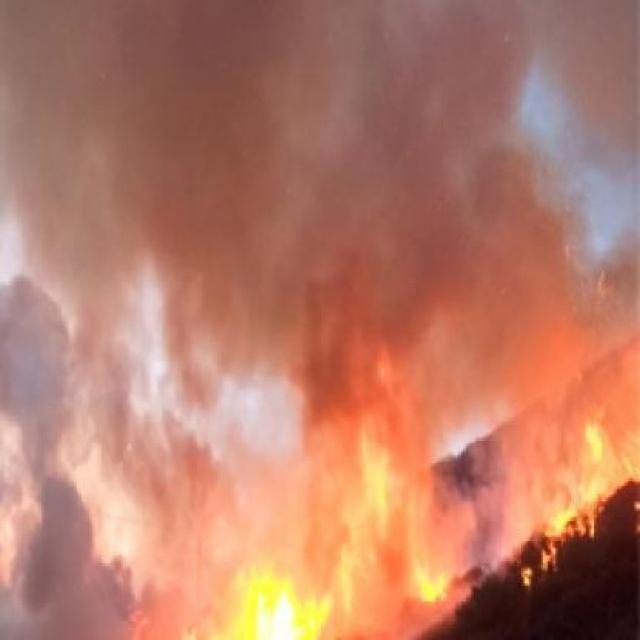Fire: (95, 378, 551, 640), (518, 367, 638, 590)
Smoke: (1, 0, 640, 392)
